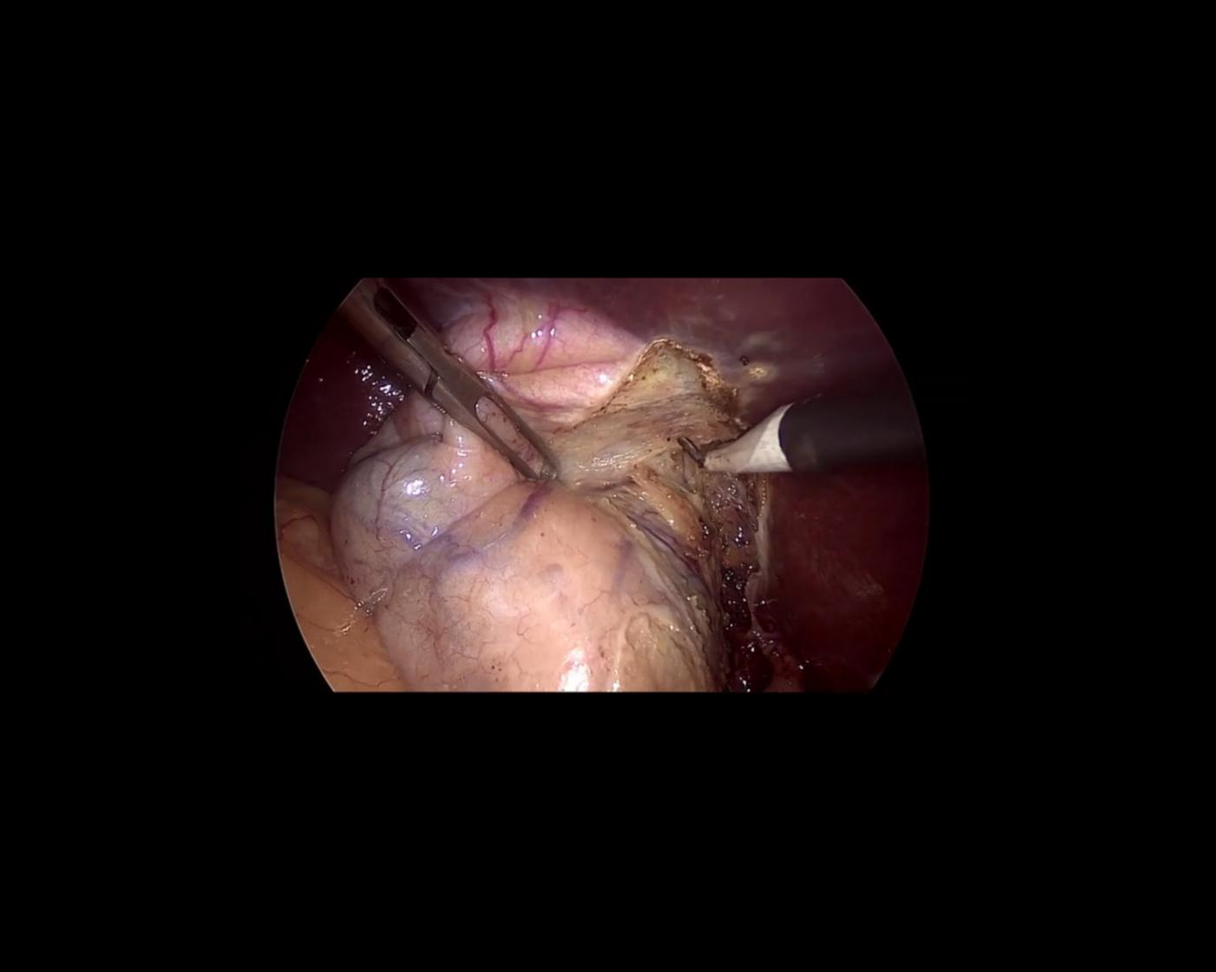Cautery: (672, 375, 926, 486)
Forceps: (328, 264, 569, 517)
Gallbladder: (286, 268, 743, 777)
Liver: (550, 147, 1036, 723), (237, 319, 417, 509)
